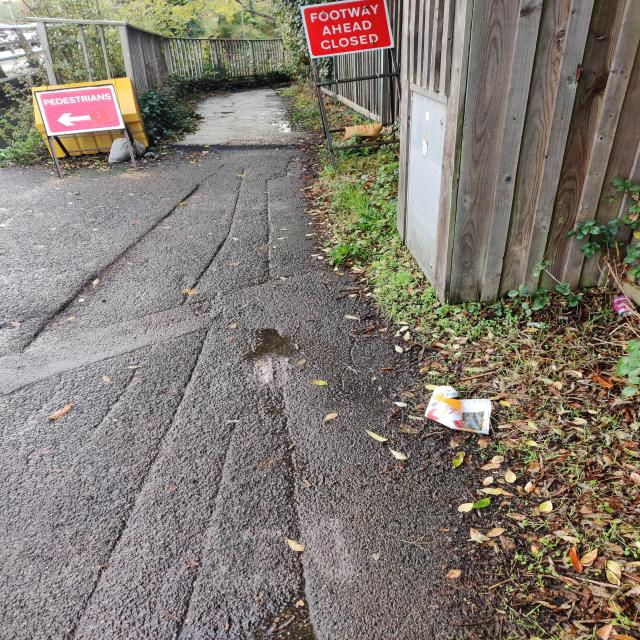litter: (417, 382, 501, 439), (609, 293, 638, 316)
